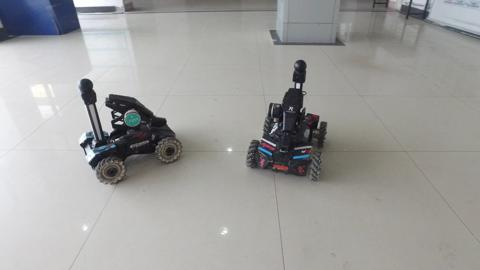chariot: (66, 76, 186, 190), (243, 57, 333, 183)
